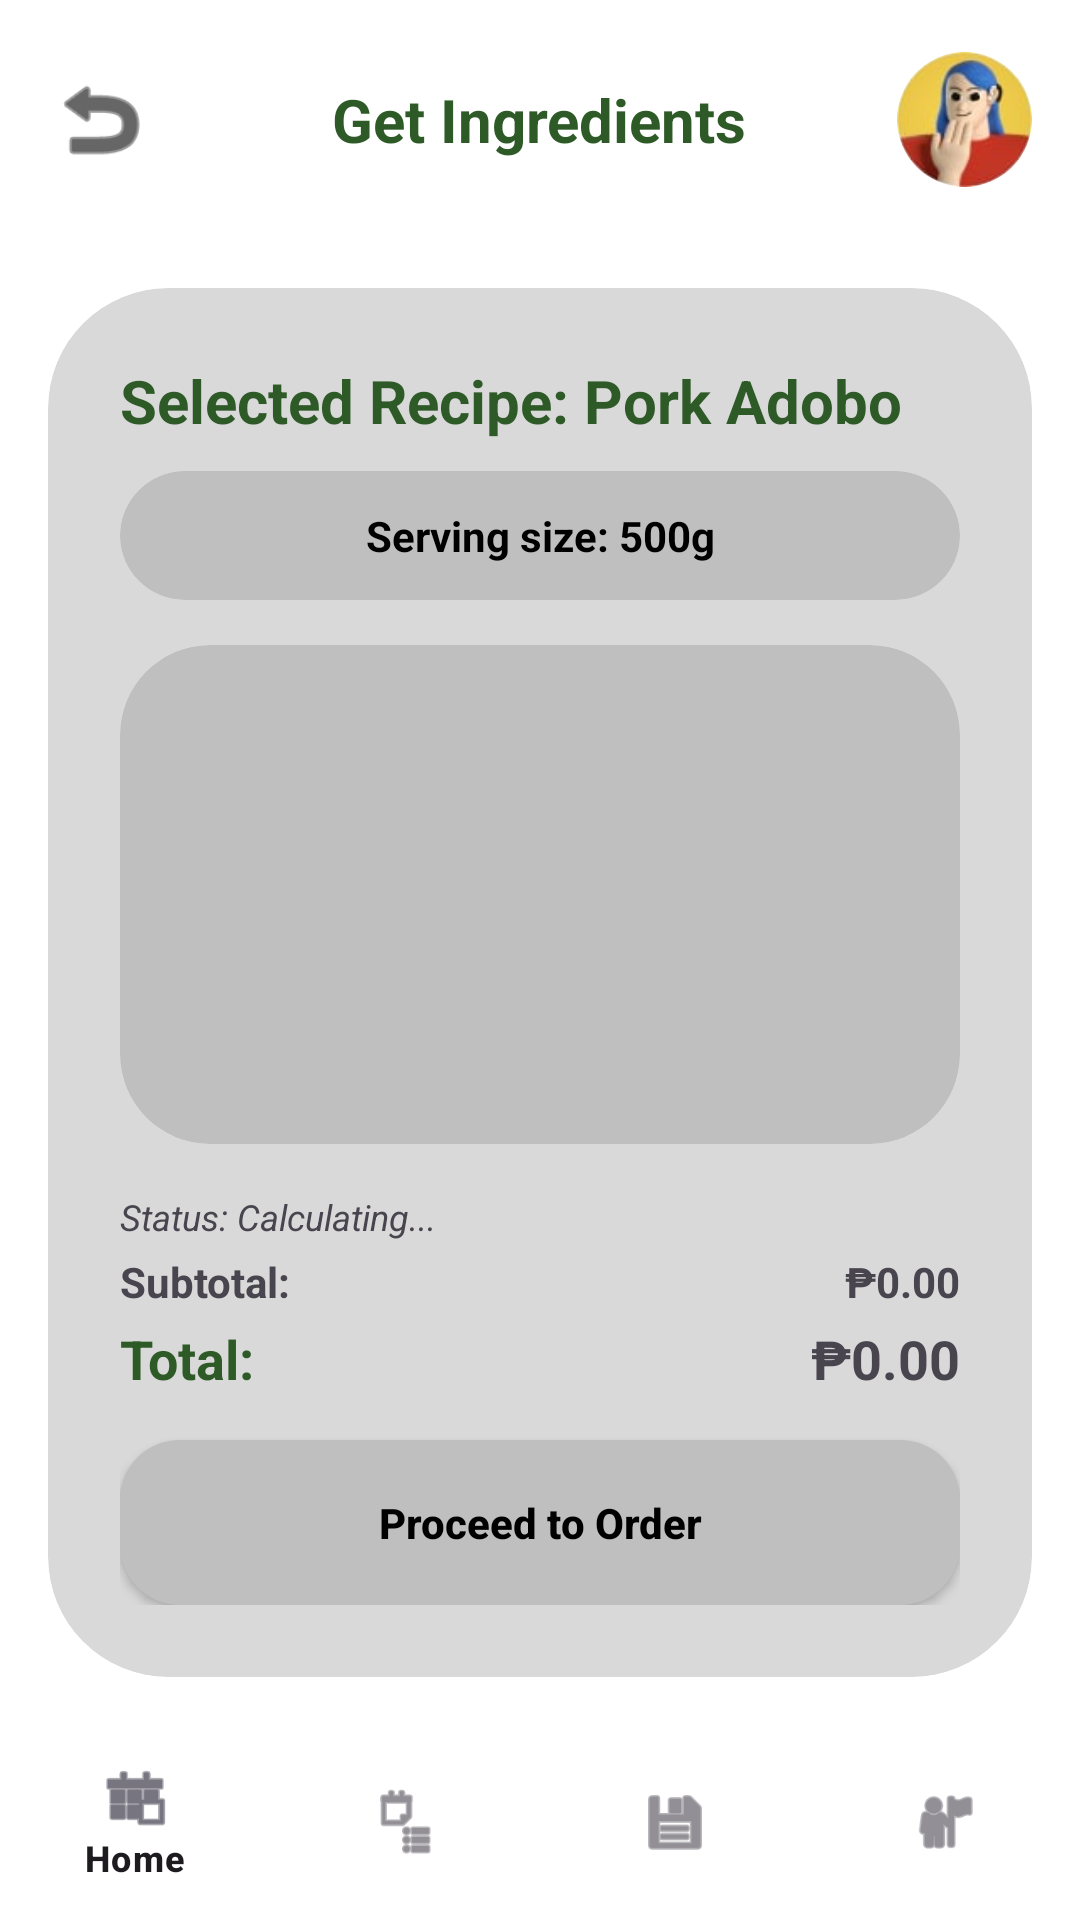

Where to tap for icons on this 1080x1920 app screen, as point (x, y):
profile: point (964, 119)
revert: point (102, 120)
